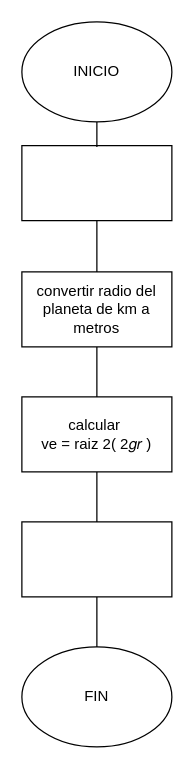
This 194x769 diagram has some shape labels left out. The shapes that lost their labels are listed below. From the top down, each one's centre as x and y in pixels, then its label:
(96,182): ingresar gravedad y radio del planeta
(96,559): imprima "velocidad de escape" {ve}
